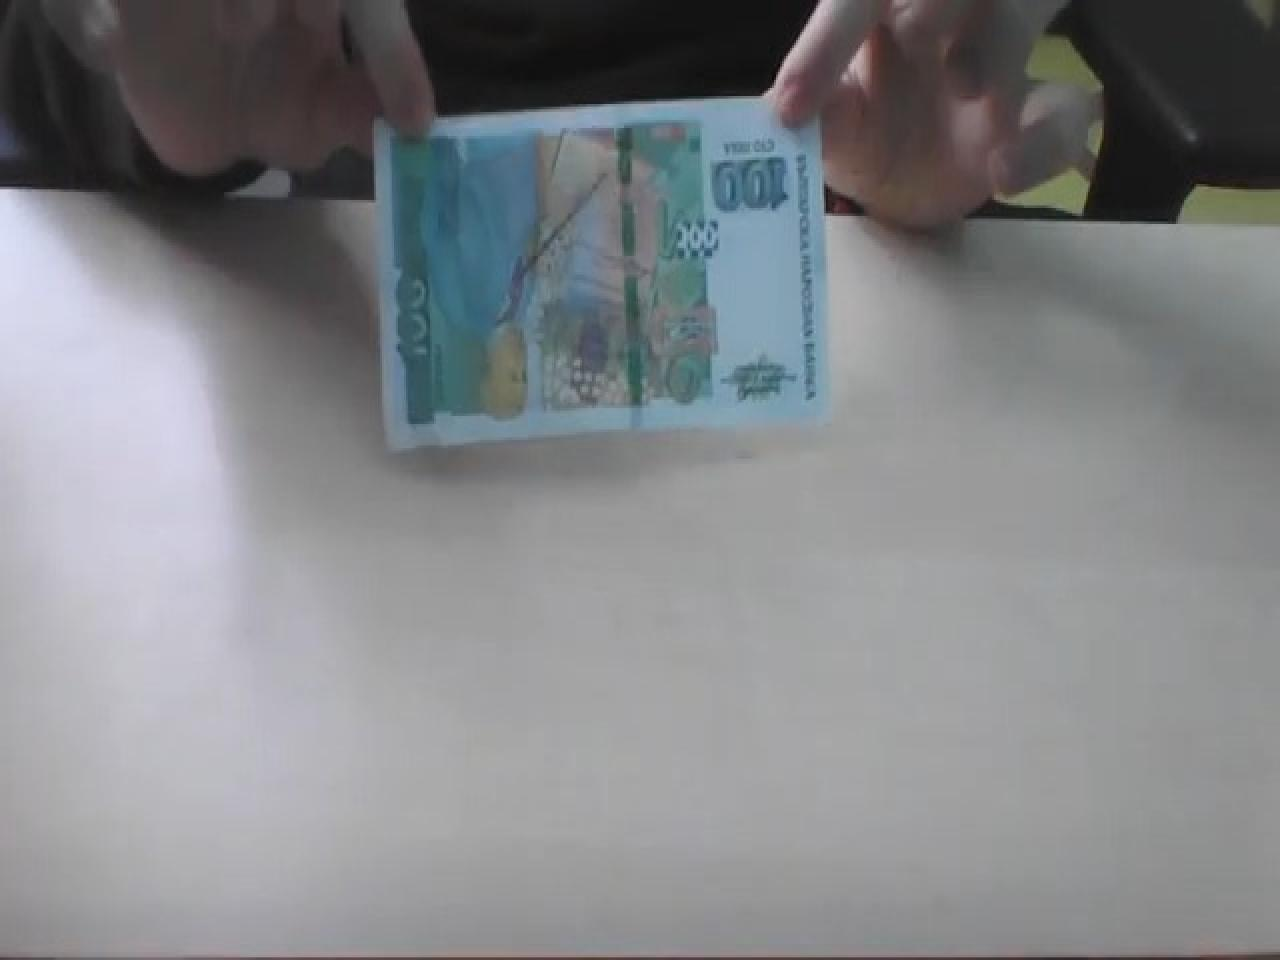100leva: (370, 91, 830, 453), (708, 151, 790, 213)
